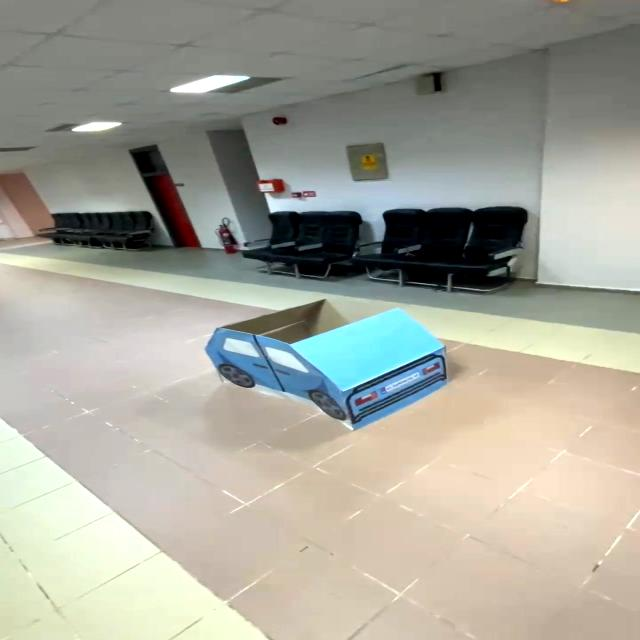blue_car: (191, 281, 470, 442)
